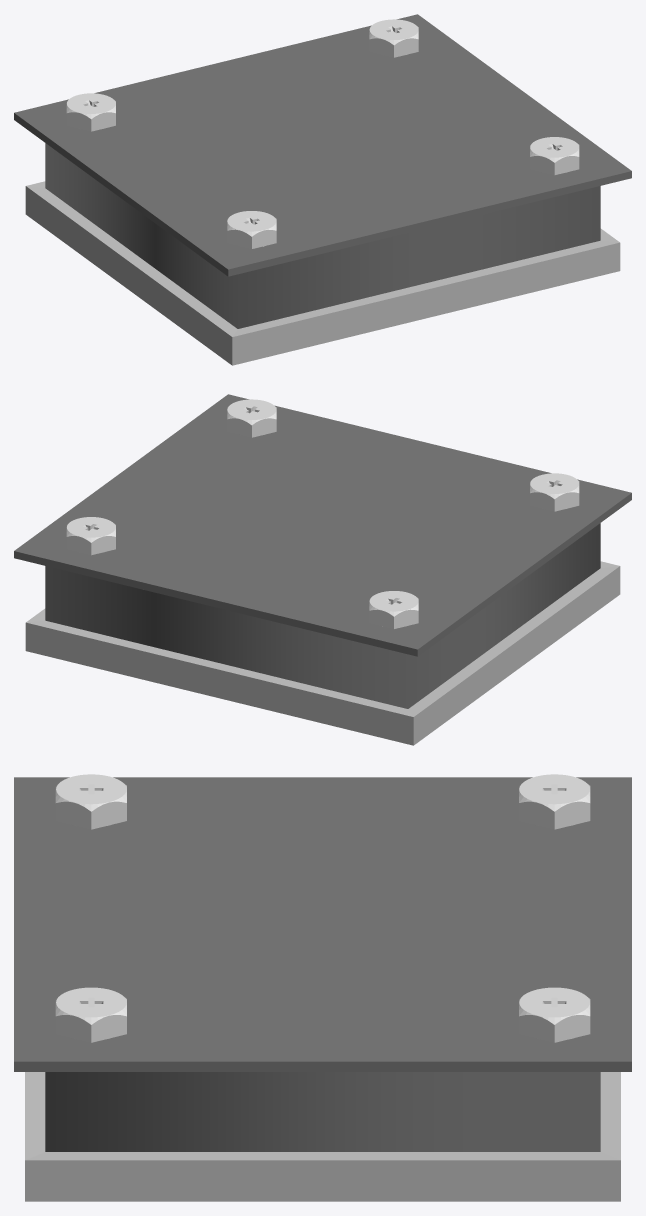
Rendered from plaque.fbx.
3 renders of one model, top to bottom at view 1: azimuth 30°, elevation 25°; view 2: azimuth 150°, elevation 25°; view 3: azimuth 270°, elevation 25°, orthographic. The views are drawn at different scales.
Visible parts, largest first — view 1: plaque, boite, support, vise_2, vise_1, vise_3, vise_4; view 2: plaque, boite, support, vise_4, vise_3, vise_1, vise_2; view 3: plaque, boite, support, vise_3, vise_1, vise_2, vise_4.
Boxes of the visible parts, x1,y1,x2,y2 form: plaque: (14,14,631,276); boite: (45,143,600,328); support: (25,181,620,365); vise_2: (369,19,418,57); vise_1: (66,93,115,131); vise_3: (227,211,276,248); vise_4: (530,137,579,175); plaque: (14,394,631,656); boite: (45,523,600,708); support: (25,561,620,745); vise_4: (227,399,276,437); vise_3: (530,473,579,511); vise_1: (369,591,418,628); vise_2: (66,517,115,555); plaque: (14,777,631,1071); boite: (45,1072,600,1151); support: (25,1072,620,1201); vise_3: (55,774,126,829); vise_1: (519,774,590,829); vise_2: (519,987,590,1042); vise_4: (55,987,126,1042).
Bounding box in the file's own units: 204 × 56.6 × 187.
2 materials, 1 textured.
